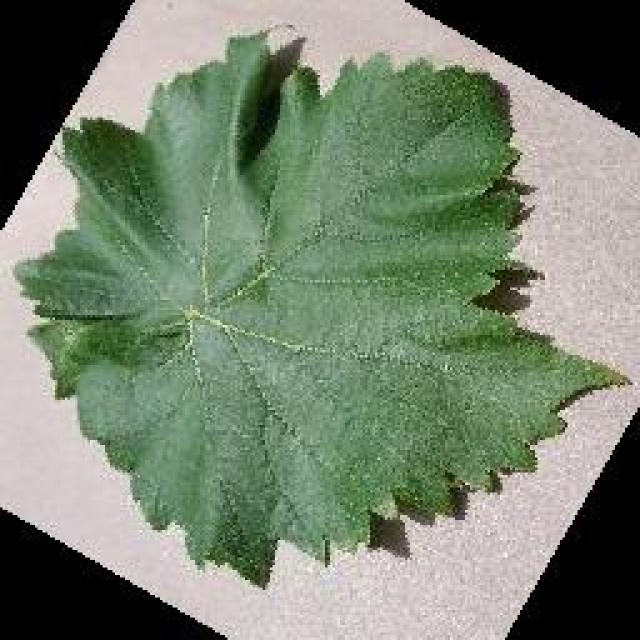Grape___healthy: (15, 30, 620, 585)
